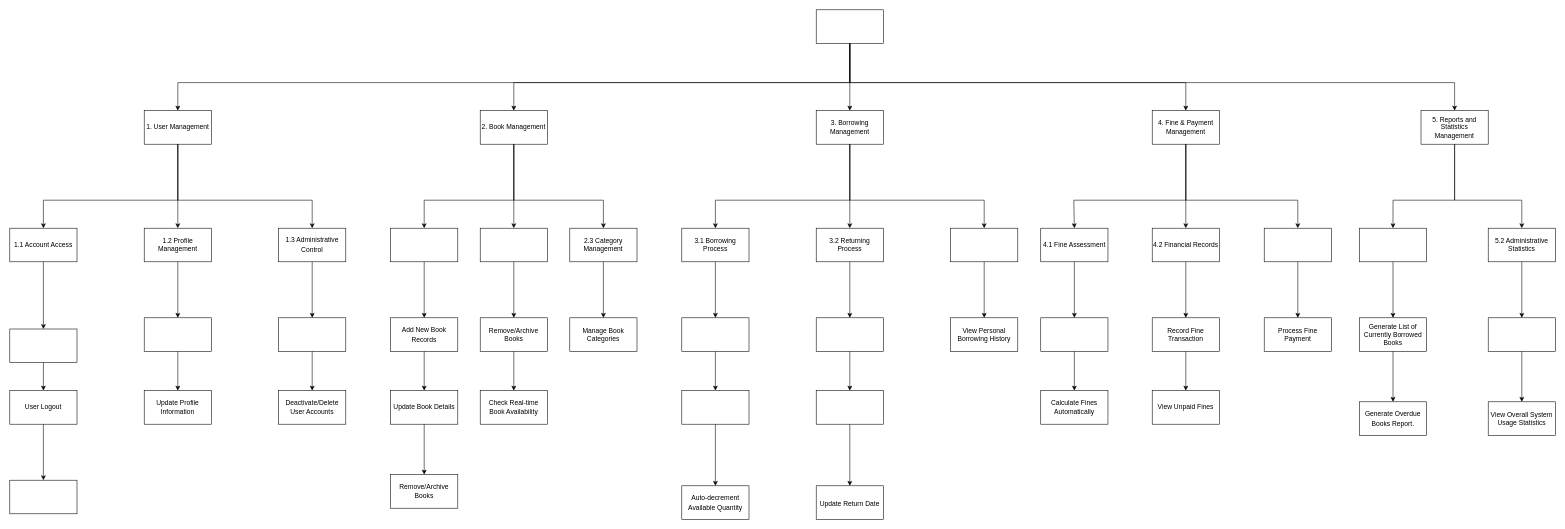
Image size: 1565x529. Some labels were removed from this diagram. The shapes that lost their labels are listed below. From the top down, each one's centre as x and y in pixels, then its label:
At [849,26]: "Library Management System".
At [424,245]: "2.1 Catalog Maintenance".
At [513,245]: "2.2 Resource Discovery".
At [984,245]: "3.3 History Tracking".
At [1297,245]: "4.3 Payment Collection".
At [1393,245]: "5.1 Operational Reports".
At [43,345]: "User Login".
At [177,334]: "Register New Account".
At [312,334]: "Manage User Roles".
At [715,334]: "Verify Member Borrowing Limits".
At [849,334]: "Process Returned Book .".
At [1074,334]: "Identify Overdue Returns".
At [1521,334]: "View Active Member Statistics".
At [715,407]: "Issue Book".
At [849,407]: "Auto-increment Available Quantity".
At [43,497]: "Password Encryption".
